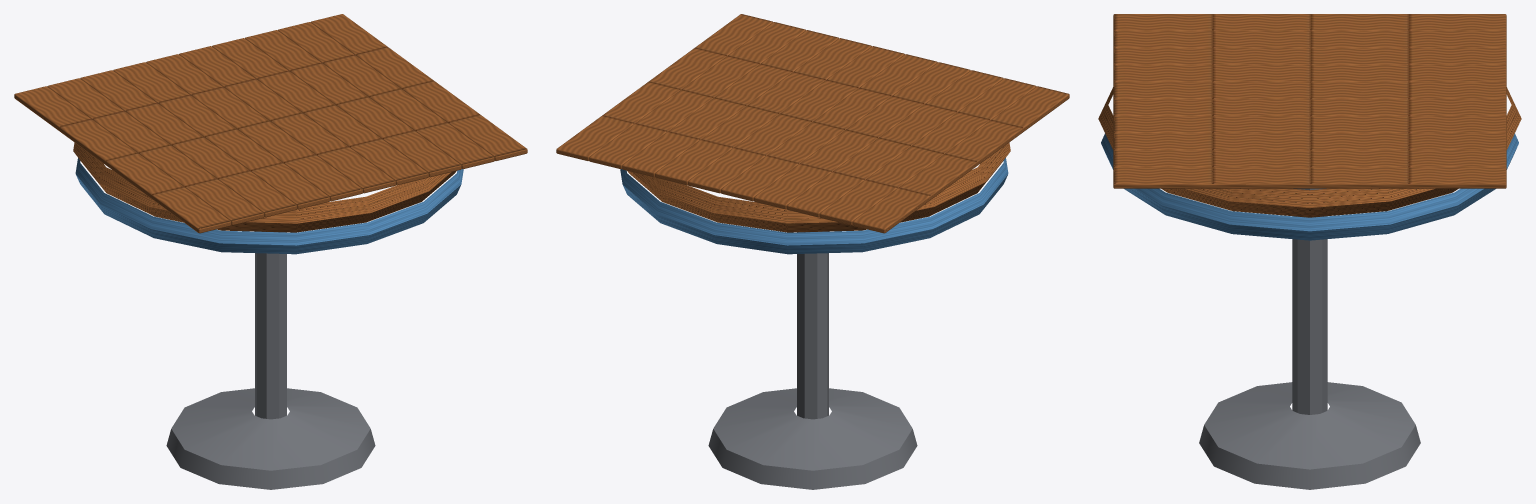
The model's file is greek-island-village-and-harbour-taverna-table-72e42b75__37085.glb.
3 renders of one model, left to right at view 1: azimuth 30°, elevation 25°; view 2: azimuth 150°, elevation 25°; view 3: azimuth 270°, elevation 25°, orthographic. The views are drawn at different scales.
Visible parts, largest first — view 1: taverna-table; view 2: taverna-table; view 3: taverna-table.
Boxes of the visible parts, left/top/right/bottom form: taverna-table: left=14, top=14, right=527, bottom=489; taverna-table: left=556, top=14, right=1069, bottom=489; taverna-table: left=1098, top=14, right=1521, bottom=489.
Bounding box in the file's own units: 0.84 × 0.774 × 0.84.
Materials: 3 (2 with a texture image).
